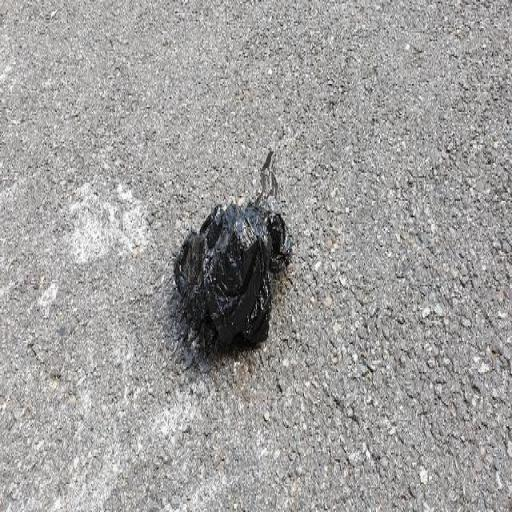plastic-bag: (174, 148, 291, 358)
